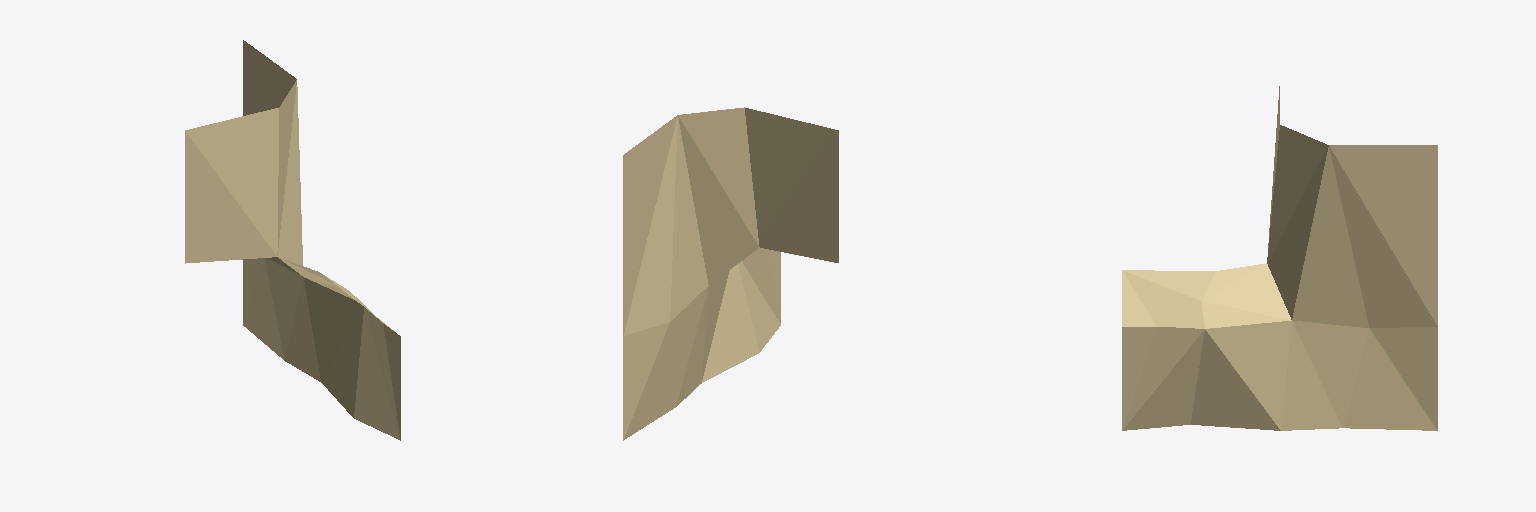
Rendered from wfc_module_29.obj.
3 renders of one model, left to right at view 1: azimuth 30°, elevation 25°; view 2: azimuth 150°, elevation 25°; view 3: azimuth 270°, elevation 25°, orthographic.
Bounding box in the file's own units: 0.5189 × 1 × 1.